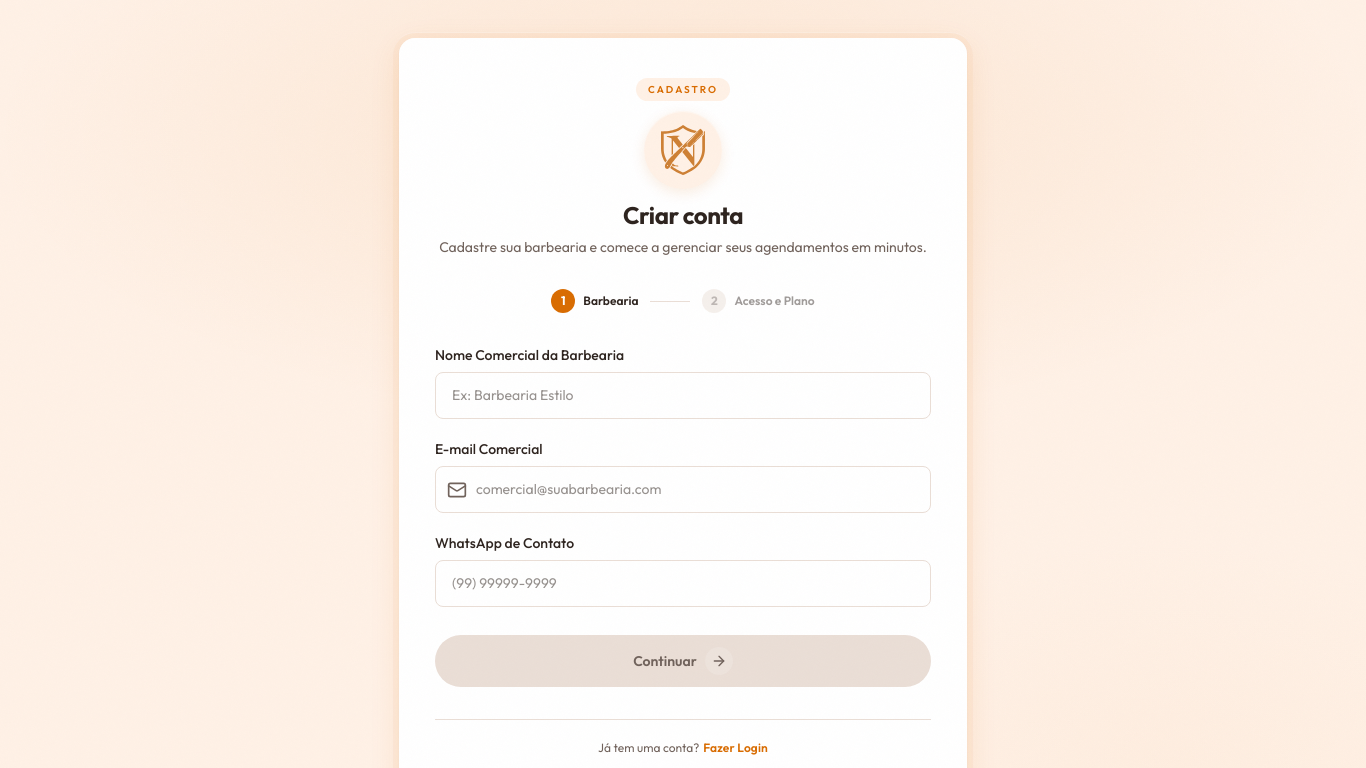
Test case: CadastroBarbearia › sugere a correção do e-mail de acesso do gestor e aplica ao clicar (spec 047, ticket 07)
Type "Barbearia Segura" into the field with placeholder "Ex: Barbearia Estilo".
click(683, 396); type("Barbearia Segura")  # box [435, 372, 931, 419]
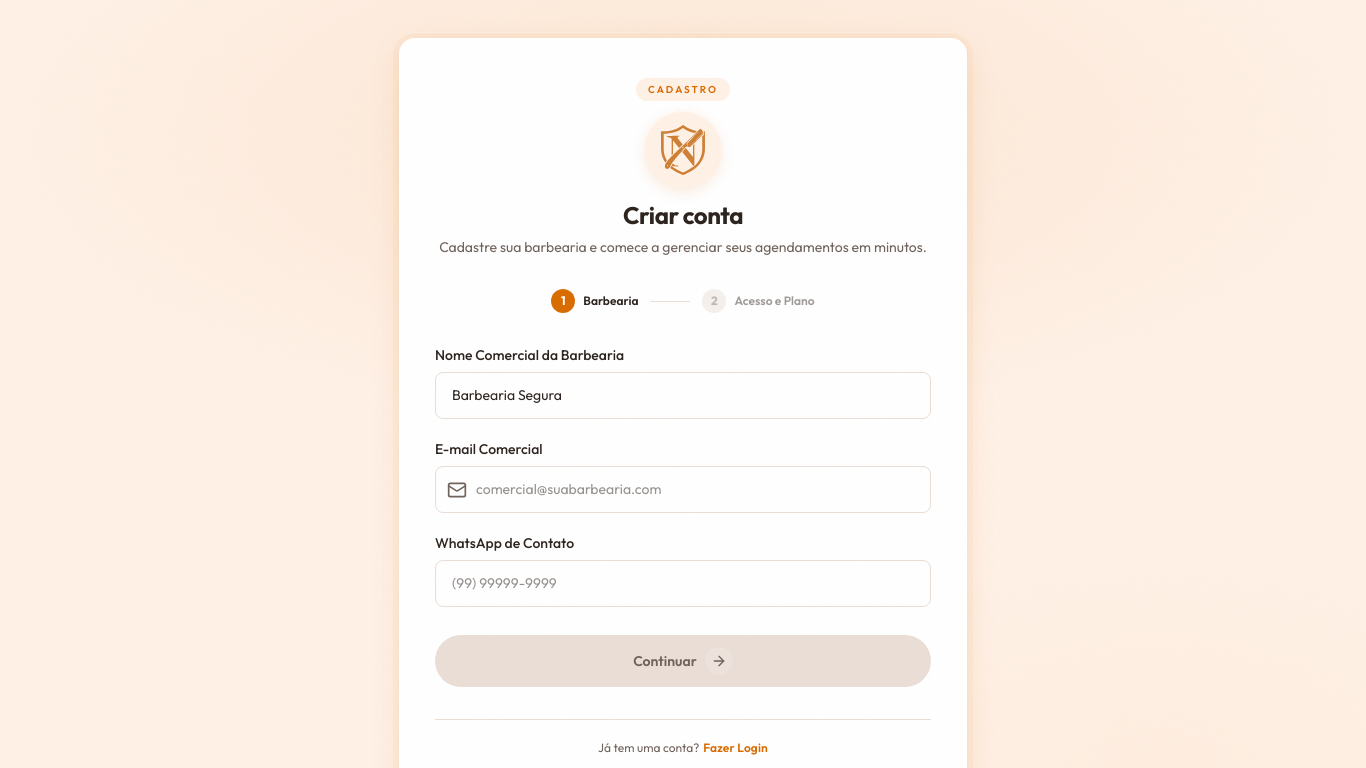
Type "contato@segura.test" into the field with placeholder "comercial@suabarbearia.com".
click(683, 490); type("contato@segura.test")  # box [435, 466, 931, 513]
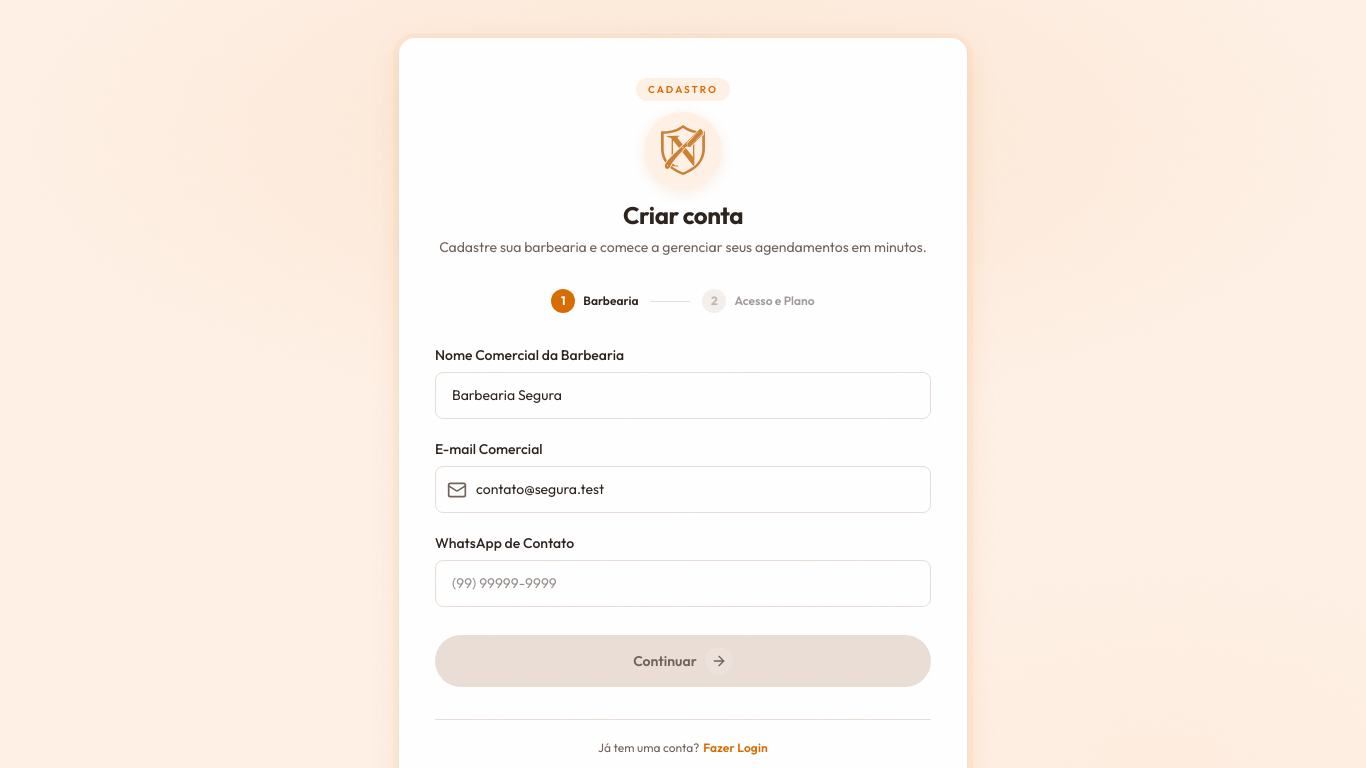
Type "92999999999" into the field with placeholder "(99) 99999-9999".
click(683, 584); type("92999999999")  # box [435, 560, 931, 607]
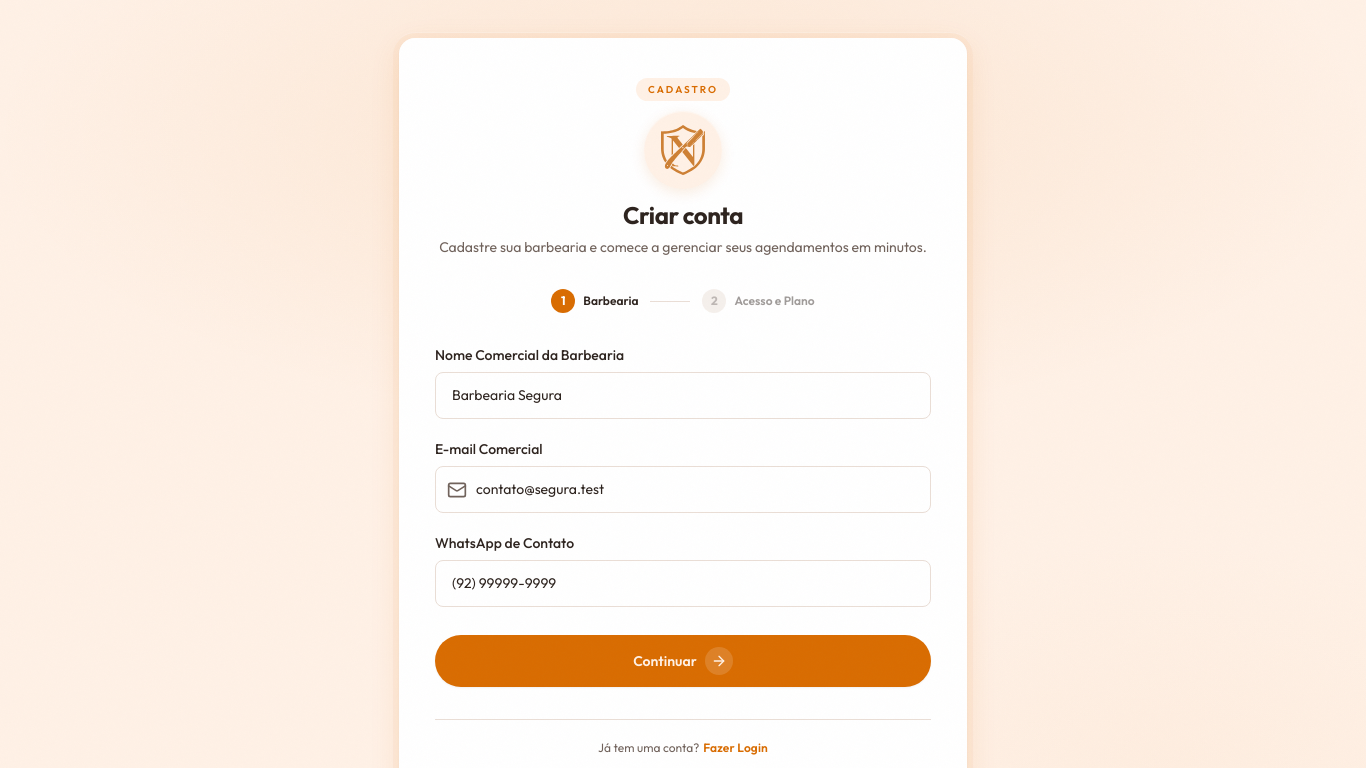
Click the button "Continuar".
click(683, 661)  # box [435, 635, 931, 687]
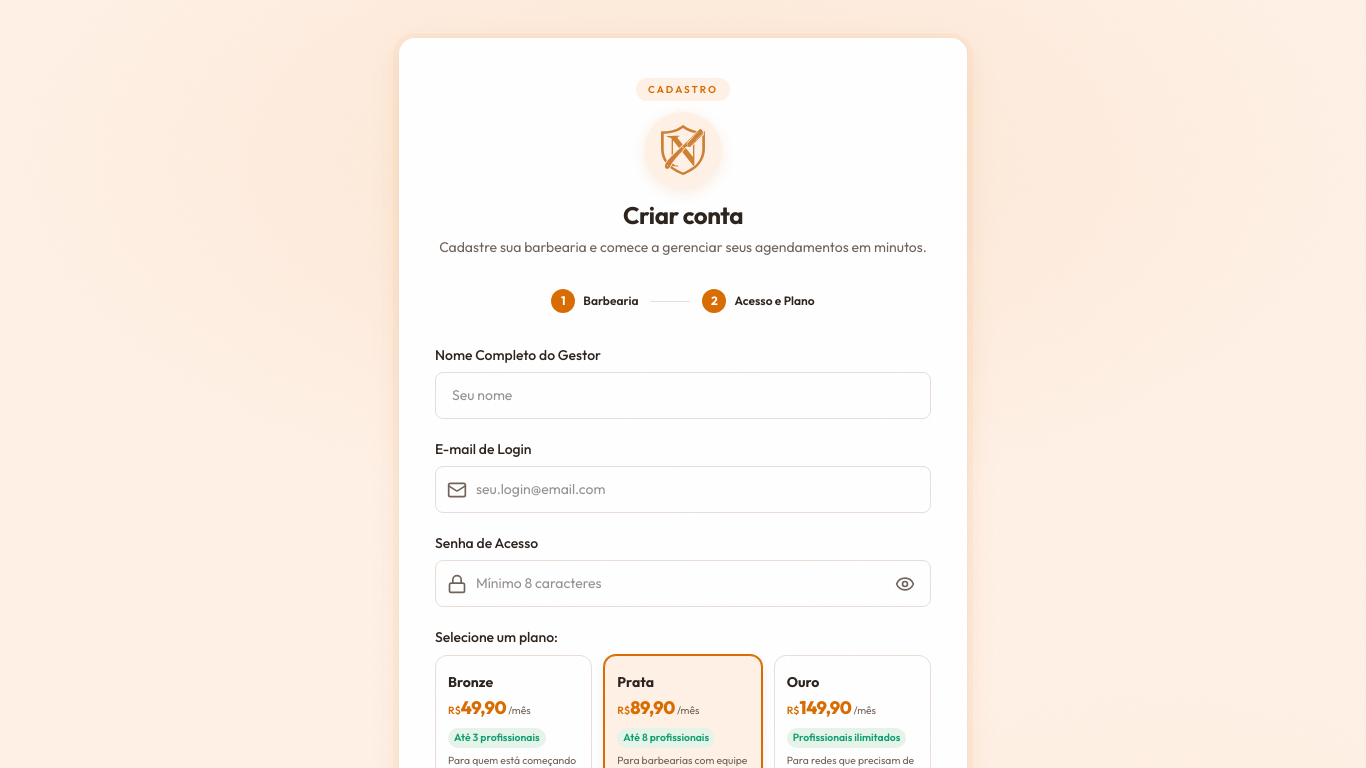
Type "gestor@gmial.com" into the field with placeholder "seu.login@email.com".
click(683, 490); type("gestor@gmial.com")  # box [435, 466, 931, 513]
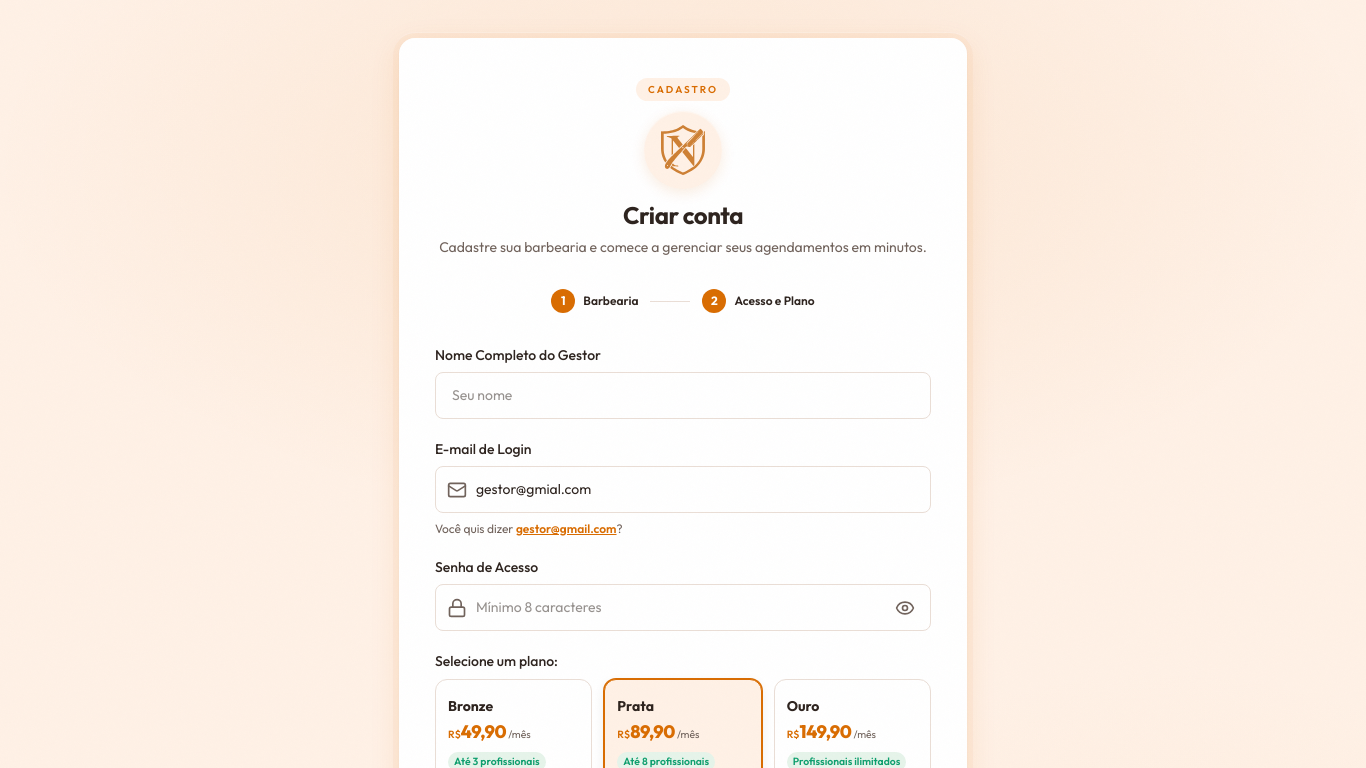
Click the button "gestor@gmail.com".
click(566, 529)  # box [516, 521, 616, 537]
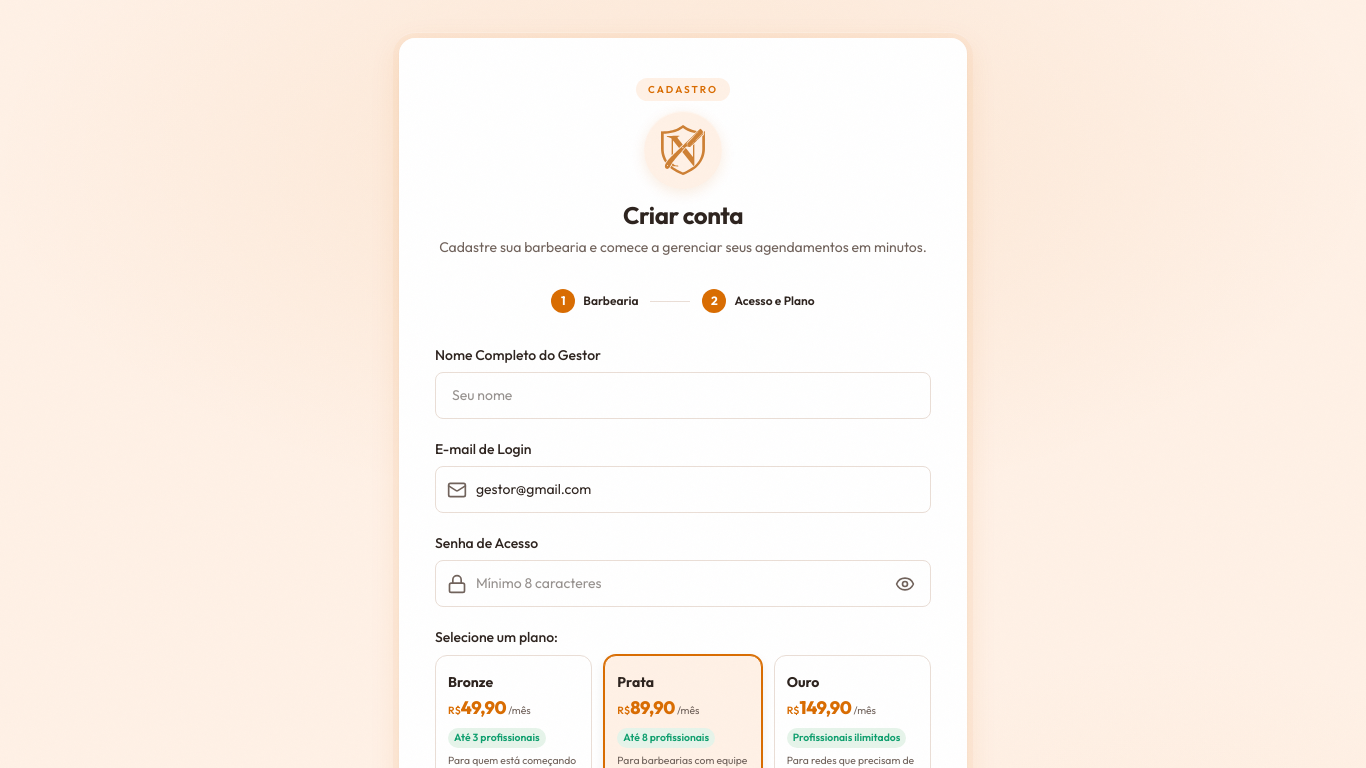
Result: the field with placeholder "seu.login@email.com" holds "gestor@gmail.com" at [435, 466, 931, 513]
